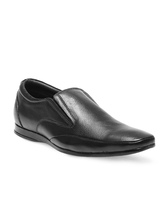shoes: (10, 75, 159, 159)
